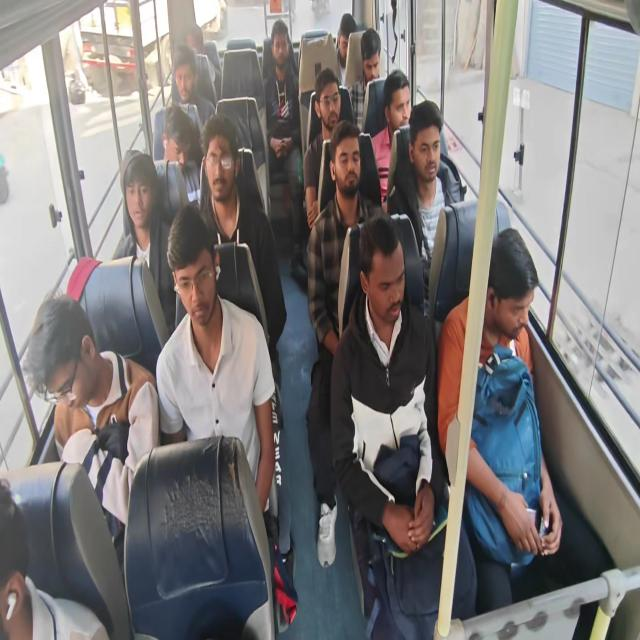person: (329, 215, 478, 638), (156, 202, 292, 576), (437, 226, 563, 610), (306, 120, 385, 568), (22, 289, 160, 544), (196, 113, 287, 391), (0, 478, 110, 639), (387, 99, 448, 313), (112, 150, 180, 334), (263, 19, 304, 273), (303, 67, 342, 229), (371, 69, 412, 206), (160, 104, 201, 205), (170, 44, 216, 131), (348, 28, 381, 130), (183, 23, 221, 104), (335, 12, 357, 86)
